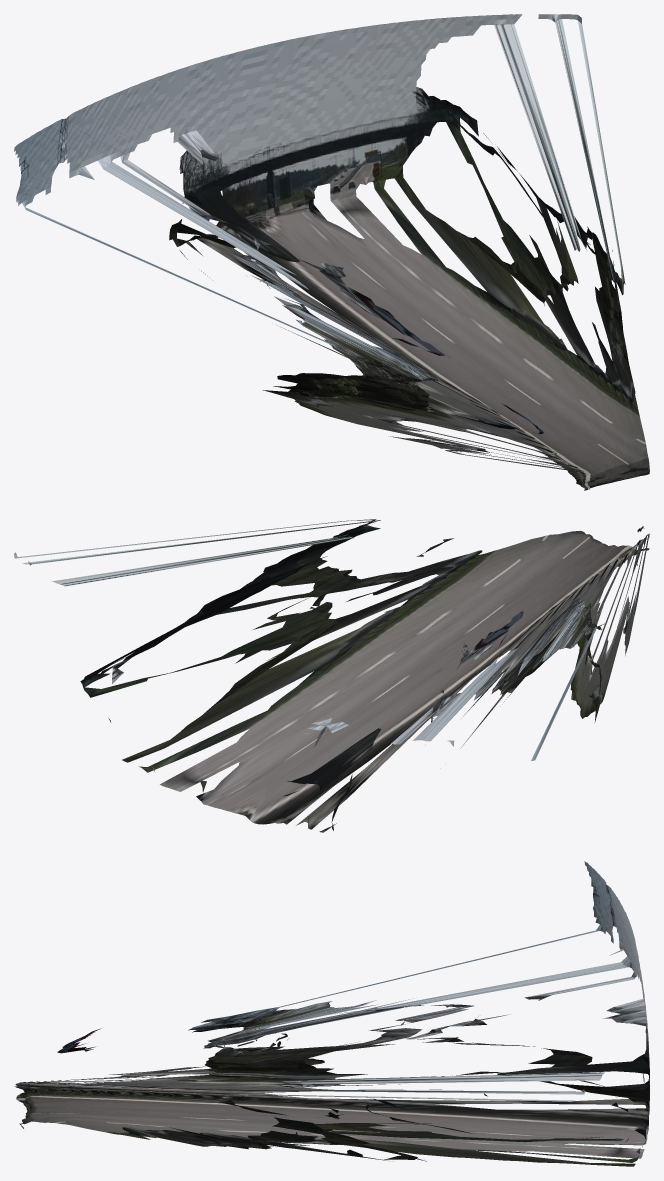
The picture shows the model from 3 angles, top to bottom: view 1: azimuth 30°, elevation 25°; view 2: azimuth 150°, elevation 25°; view 3: azimuth 270°, elevation 25°; orthographic projection. The views are drawn at different scales.
Parts seen in each view (by area): view 1: defaultobject; view 2: defaultobject; view 3: defaultobject.
Boxes of the visible parts, x1,y1,x2,y2 form: defaultobject: (14,14,649,490); defaultobject: (14,519,649,832); defaultobject: (14,861,649,1166).
Bounding box in the file's own units: 39.11 × 12.47 × 44.84.
1 material, 1 textured.
